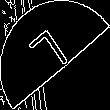L_SE: (30, 26, 80, 84)
